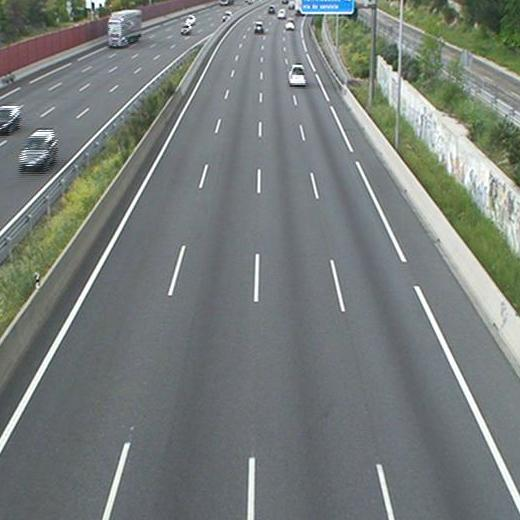car: (287, 63, 306, 87)
